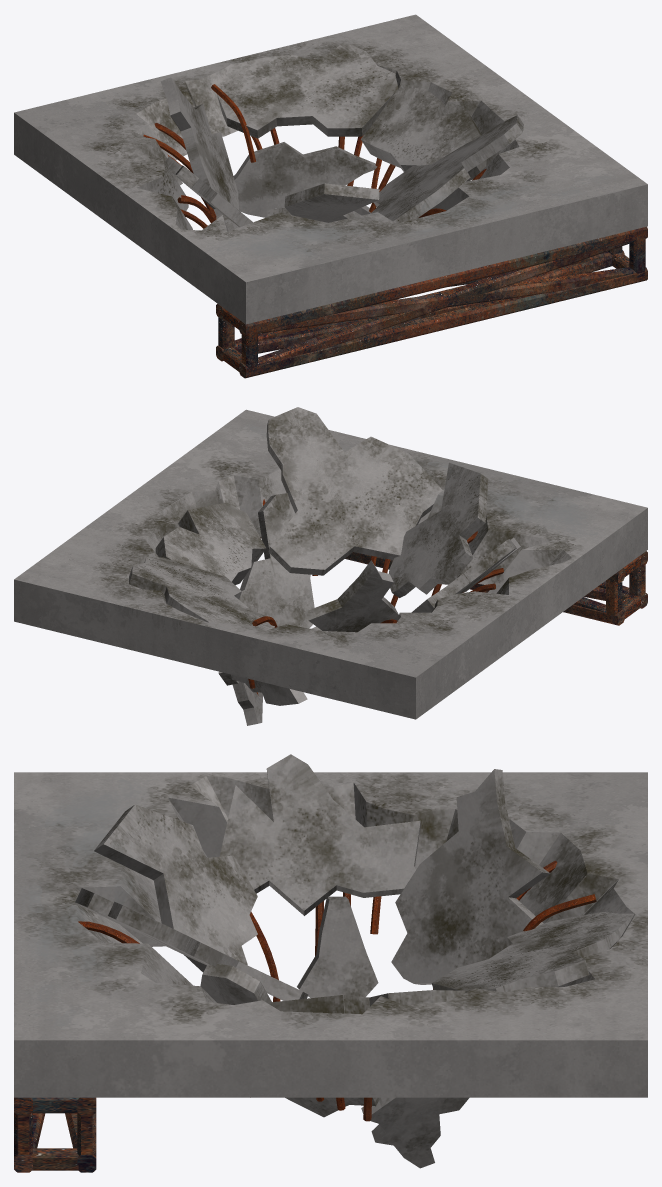
The model's file is ceiling_hole.fbx.
3 renders of one model, top to bottom at view 1: azimuth 30°, elevation 25°; view 2: azimuth 150°, elevation 25°; view 3: azimuth 270°, elevation 25°, orthographic. The views are drawn at different scales.
Parts seen in each view (by area): view 1: Plane.013; view 2: Plane.013; view 3: Plane.013.
Boxes of the visible parts, bbox=[...] form: Plane.013: bbox=[14, 14, 647, 378]; Plane.013: bbox=[14, 407, 647, 725]; Plane.013: bbox=[14, 754, 647, 1172].
Bounding box in the file's own units: 400 × 212 × 400.
